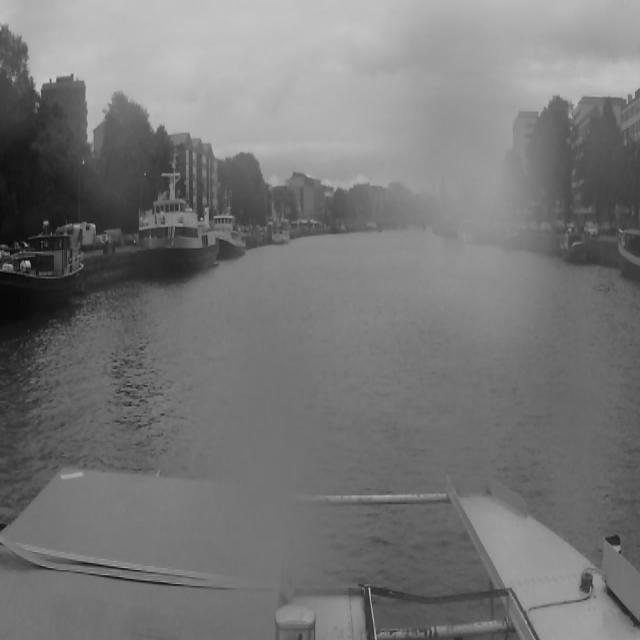ship: (134, 156, 218, 266), (0, 218, 86, 316), (206, 207, 248, 262), (562, 228, 592, 260)
